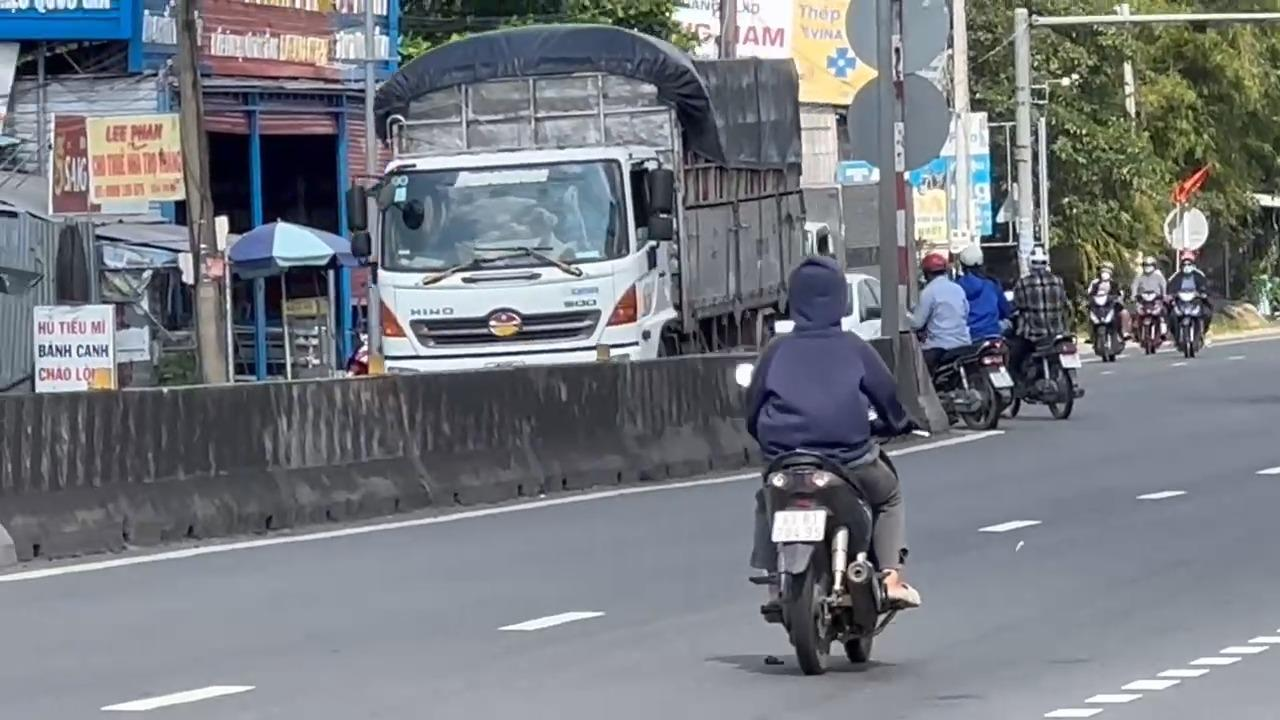bien_so: (770, 507, 827, 543)
